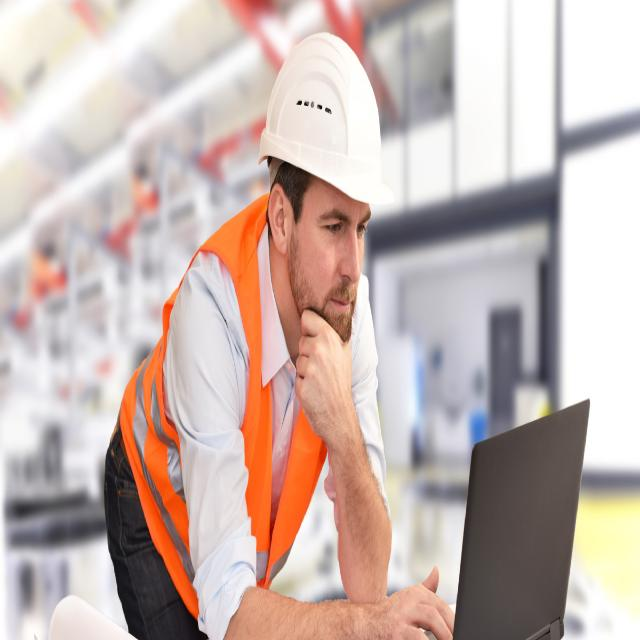helmet: (259, 46, 401, 202)
no-goggles: (306, 192, 376, 245)
vest: (111, 176, 334, 596)
